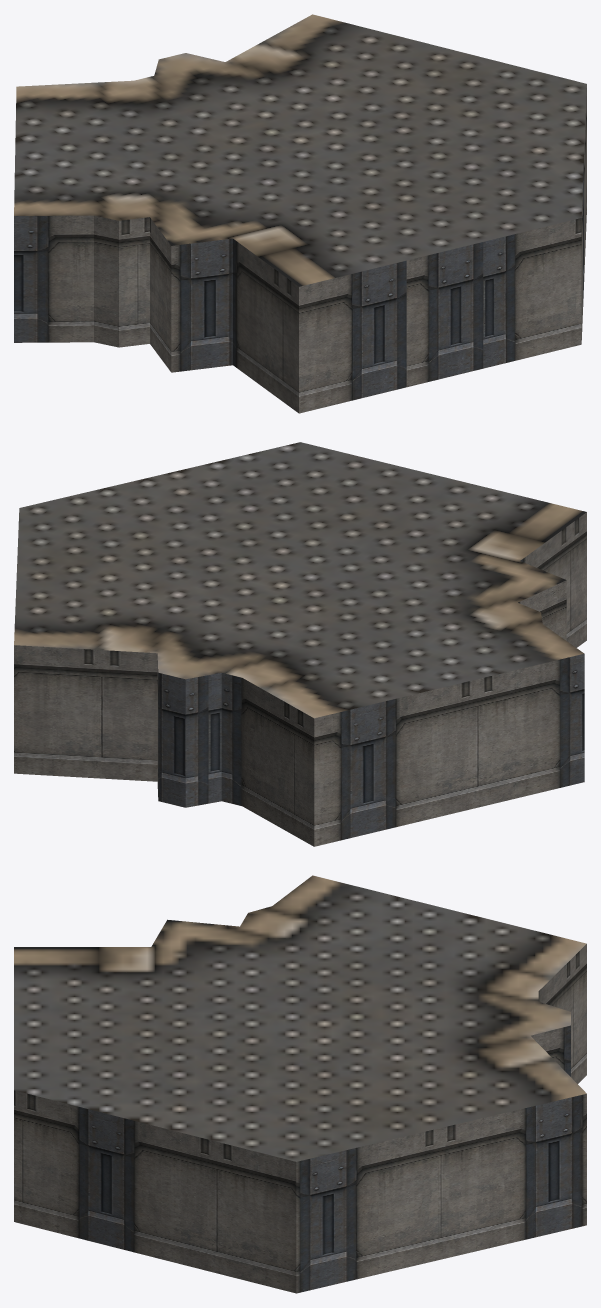
Rendered from building_heavy_a_46.glb.
The picture shows the model from 3 angles, top to bottom: view 1: azimuth 30°, elevation 25°; view 2: azimuth 150°, elevation 25°; view 3: azimuth 270°, elevation 25°; orthographic projection. The views are drawn at different scales.
Visible parts, largest first — view 1: buildings/saxarba/building_heavy/building_heavy_a_46; view 2: buildings/saxarba/building_heavy/building_heavy_a_46; view 3: buildings/saxarba/building_heavy/building_heavy_a_46.
Boxes of the visible parts, box(x1,y1,x2,y2) form: buildings/saxarba/building_heavy/building_heavy_a_46: box(14, 14, 586, 413); buildings/saxarba/building_heavy/building_heavy_a_46: box(14, 442, 586, 846); buildings/saxarba/building_heavy/building_heavy_a_46: box(14, 875, 586, 1293).
Bounding box in the file's own units: 84 × 18 × 71.
